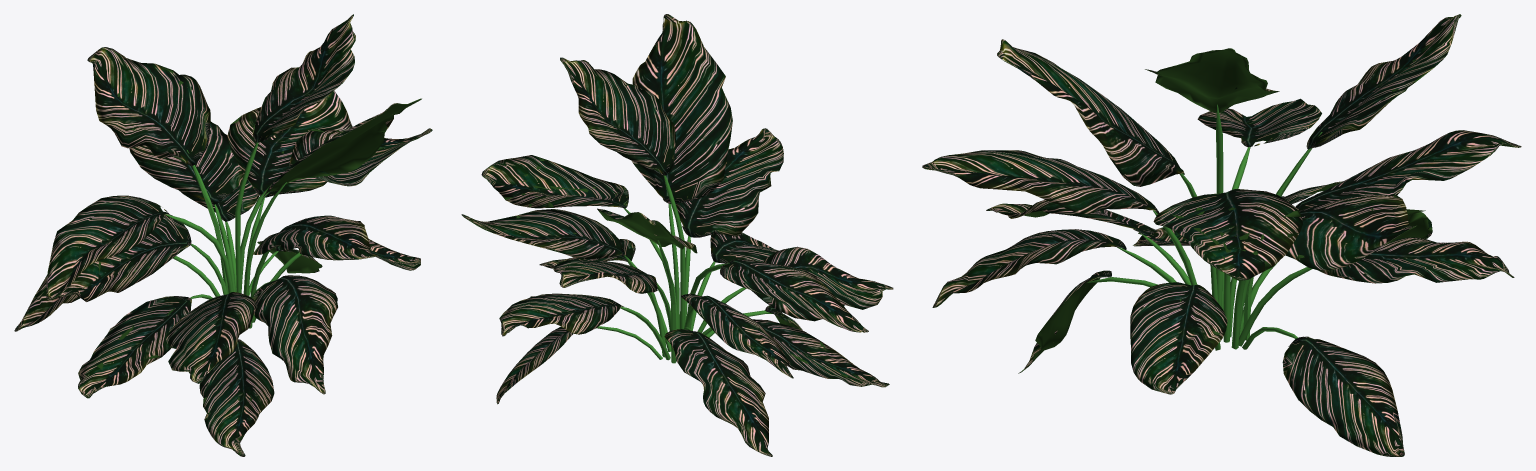
Rendered from Calathea_Ornata.glb.
3 renders of one model, left to right at view 1: azimuth 30°, elevation 25°; view 2: azimuth 150°, elevation 25°; view 3: azimuth 270°, elevation 25°, orthographic. The views are drawn at different scales.
Visible parts, largest first — view 1: Calathea_Ornata; view 2: Calathea_Ornata; view 3: Calathea_Ornata.
Boxes of the visible parts, x1,y1,x2,y2 form: Calathea_Ornata: (14,14,432,456); Calathea_Ornata: (461,14,893,456); Calathea_Ornata: (922,14,1521,456).
Size of the model in its own units: 3.16 by 2.62 by 3.17.
3 materials, 1 textured.
